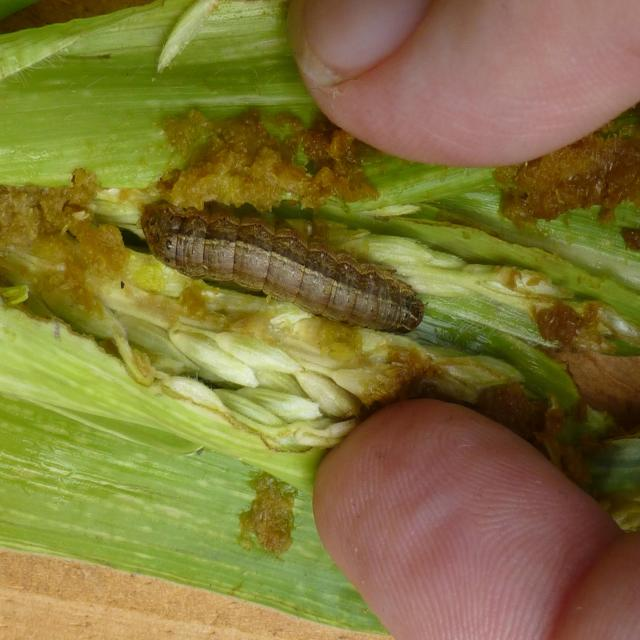army worm: (136, 187, 434, 339)
